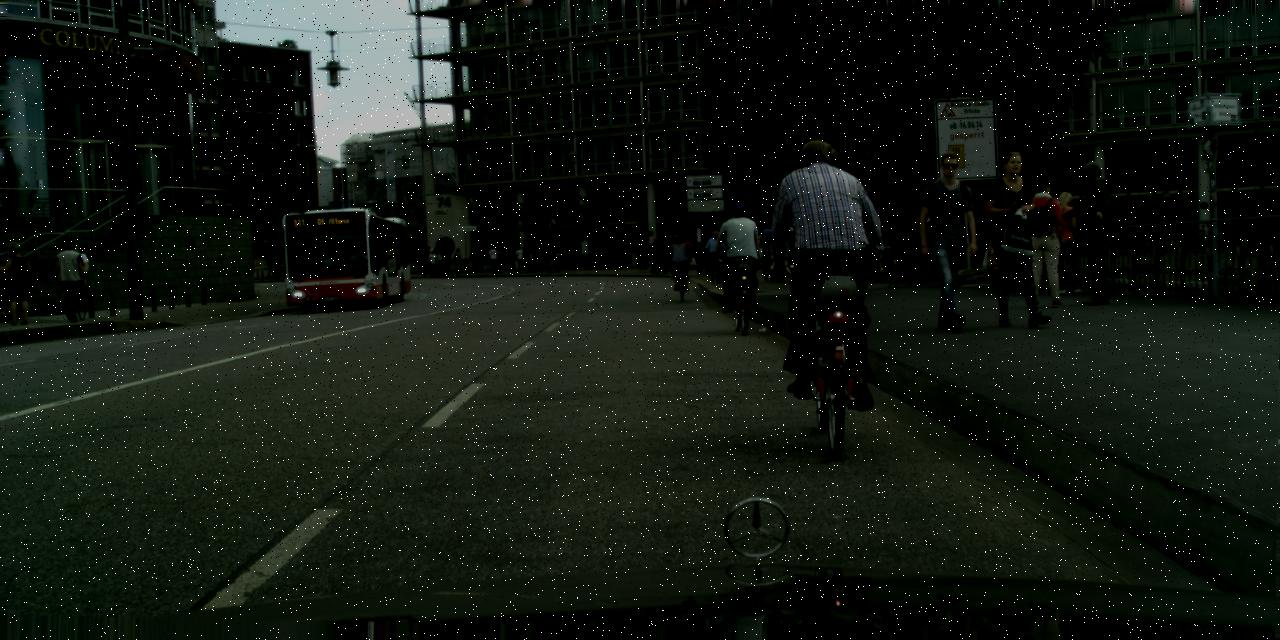ped: (772, 139, 879, 402), (913, 151, 987, 331), (979, 149, 1052, 327), (1068, 160, 1126, 305), (1016, 175, 1070, 308), (716, 202, 761, 313), (986, 181, 1031, 291), (995, 184, 1038, 290), (1047, 191, 1089, 294), (0, 242, 34, 326), (55, 238, 89, 322), (1250, 211, 1278, 291), (60, 243, 88, 312), (668, 233, 691, 291), (705, 230, 726, 282), (758, 222, 779, 274), (1246, 210, 1263, 256), (647, 237, 662, 273), (681, 236, 694, 268), (662, 238, 675, 270), (654, 235, 666, 266), (636, 240, 648, 270), (524, 243, 536, 270), (529, 241, 540, 270), (468, 244, 479, 272), (487, 244, 498, 272), (519, 241, 529, 269), (423, 246, 433, 272), (542, 244, 552, 270), (544, 246, 554, 272), (514, 244, 524, 270), (270, 256, 280, 281), (430, 248, 440, 273), (704, 251, 714, 276), (442, 248, 452, 272), (453, 247, 463, 271), (276, 255, 286, 278), (553, 248, 563, 271), (494, 248, 504, 270), (508, 248, 518, 270), (522, 246, 532, 268), (428, 249, 437, 273), (440, 249, 449, 273), (478, 250, 486, 271), (648, 251, 656, 270), (267, 258, 272, 272), (275, 251, 279, 263)
